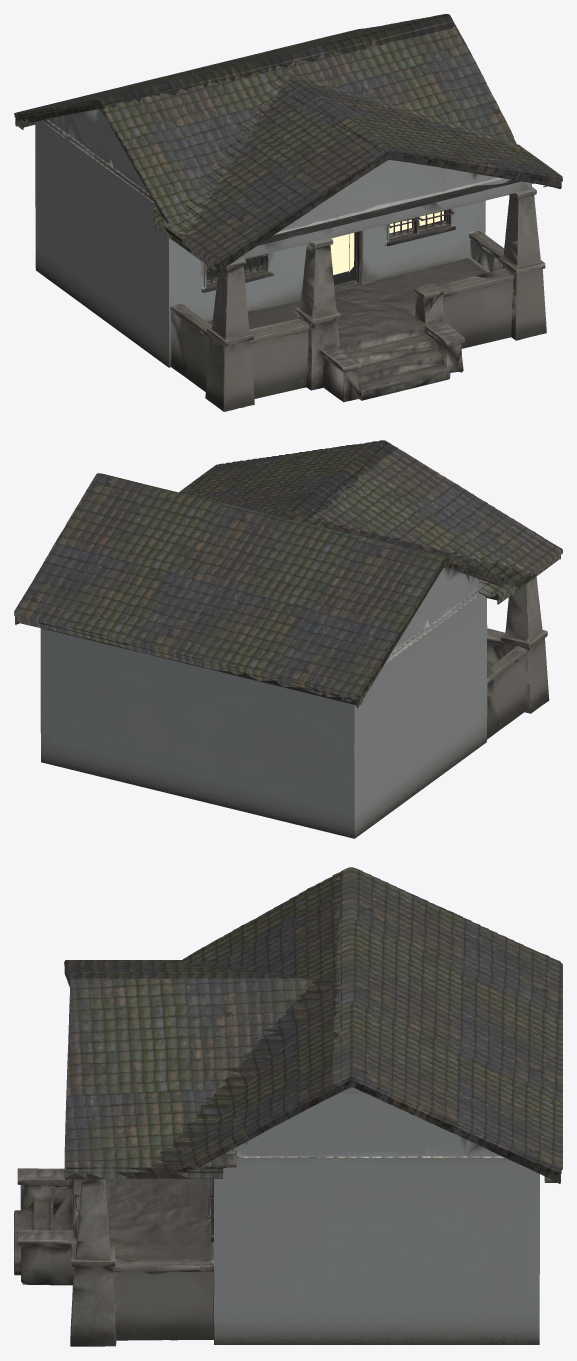
Rendered from house-craftsman-porch.glb.
The picture shows the model from 3 angles, top to bottom: view 1: azimuth 30°, elevation 25°; view 2: azimuth 150°, elevation 25°; view 3: azimuth 270°, elevation 25°; orthographic projection. The views are drawn at different scales.
Bounding box in the file's own units: 7.67 × 4.8 × 8.47.
4 materials, 4 textured.
